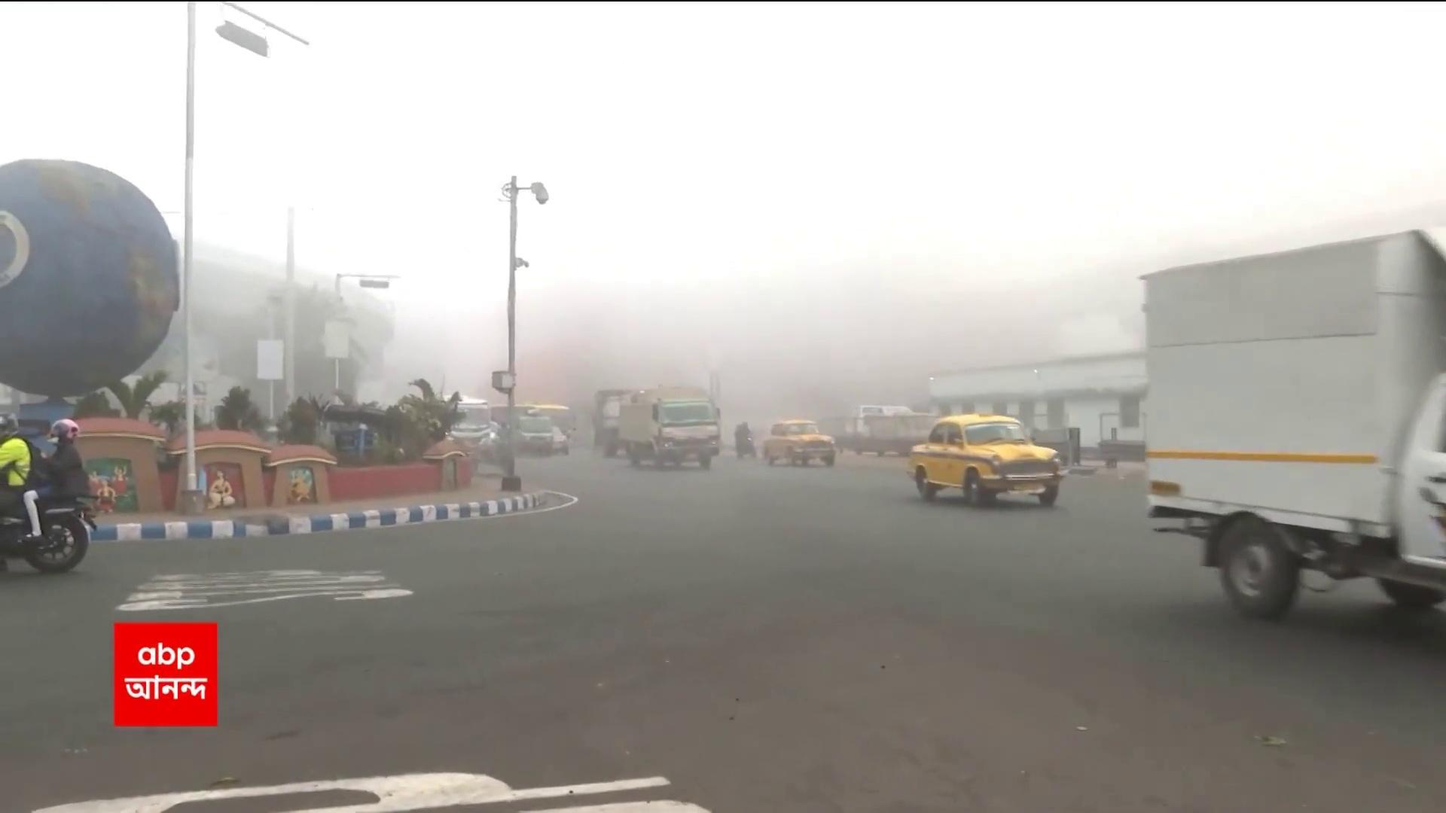Bike: (734, 420, 758, 457)
Car: (909, 412, 1063, 507), (762, 420, 836, 466)
Truck: (1134, 225, 1446, 619), (618, 385, 722, 467)
